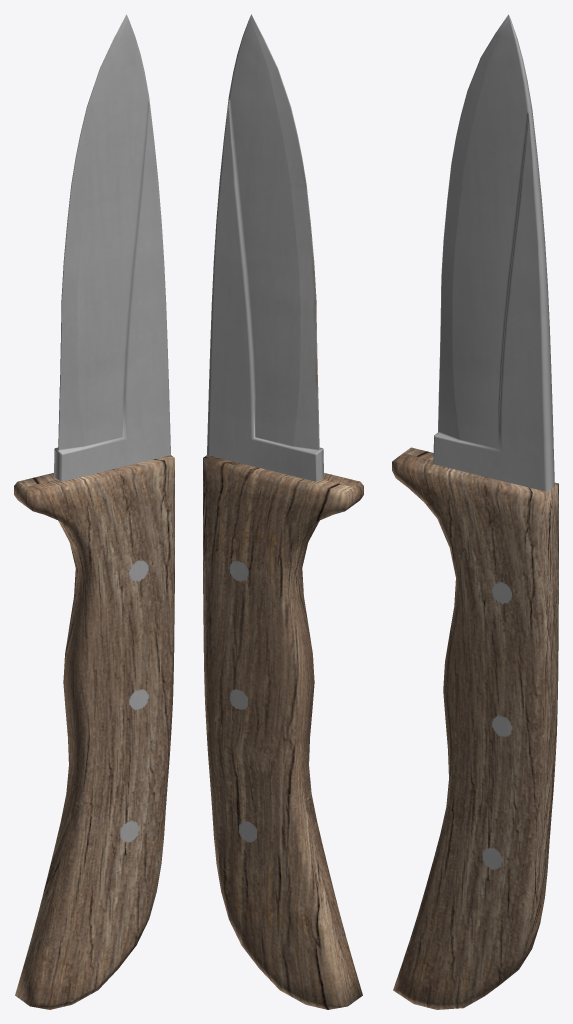
The model's file is Knife.glb.
3 views of the same model, side by side, from view 1: azimuth 30°, elevation 25°; view 2: azimuth 150°, elevation 25°; view 3: azimuth 330°, elevation 25° (orthographic). The views are drawn at different scales.
Parts seen in each view (by area): view 1: Grip; view 2: Grip; view 3: Grip.
Boxes of the visible parts, left/top/right/bottom form: Grip: left=14, top=14, right=174, bottom=1009; Grip: left=203, top=14, right=363, bottom=1009; Grip: left=392, top=14, right=558, bottom=1009.
Bounding box in the file's own units: 0.779 × 4.95 × 0.174.
1 material, 1 textured.
